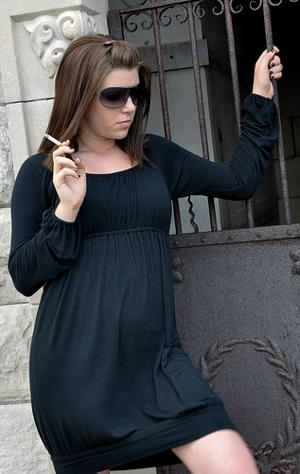person: (9, 30, 286, 473)
